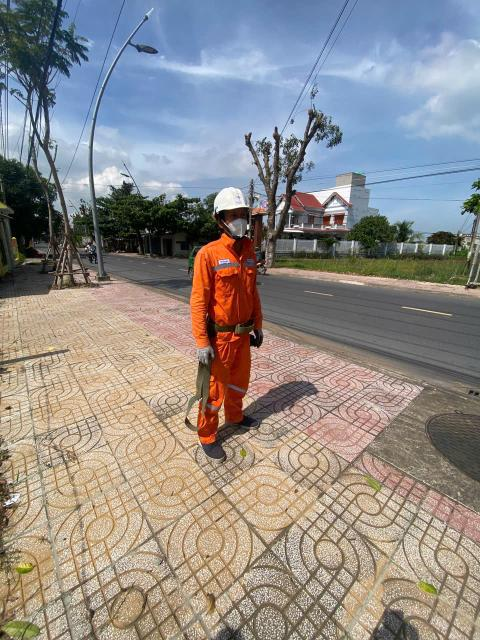gloves: (183, 333, 222, 373), (241, 328, 273, 349)
harness: (194, 311, 254, 343)
helmet: (206, 180, 256, 224)
shoes: (184, 426, 231, 470), (224, 402, 262, 438)
